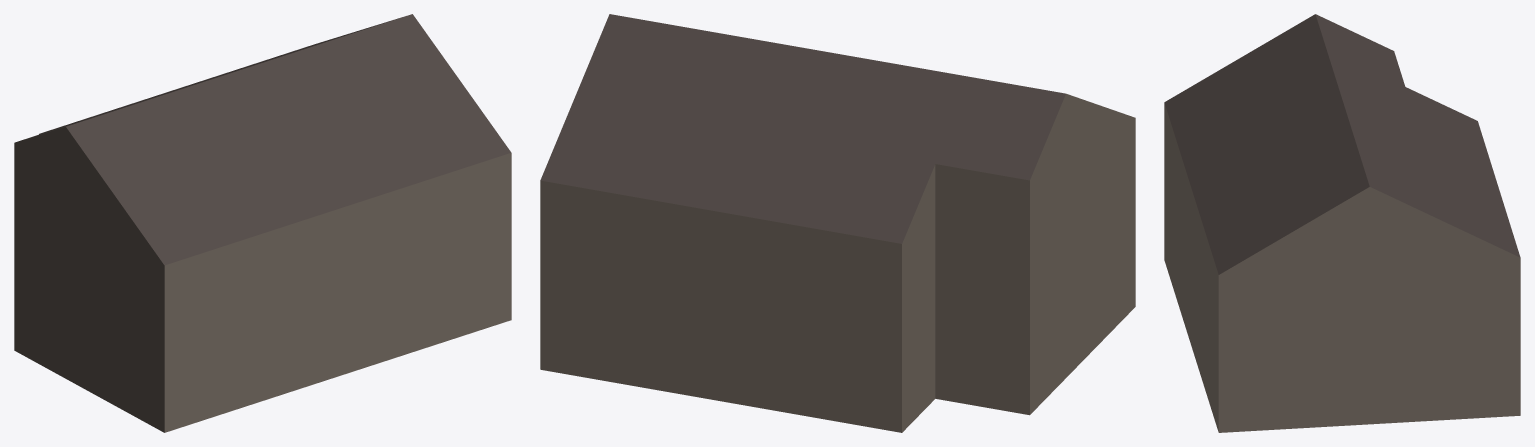
3 renders of one model, left to right at view 1: azimuth 30°, elevation 25°; view 2: azimuth 150°, elevation 25°; view 3: azimuth 270°, elevation 25°, orthographic. The views are drawn at different scales.
Parts seen in each view (by area): view 1: HP-w1376988726; view 2: HP-w1376988726; view 3: HP-w1376988726.
Boxes of the visible parts, box(x1,y1,x2,y2) form: HP-w1376988726: box(14, 14, 511, 432); HP-w1376988726: box(540, 14, 1135, 432); HP-w1376988726: box(1164, 14, 1520, 432).
Size of the model in its own units: 15.15 by 9.03 by 12.27.
